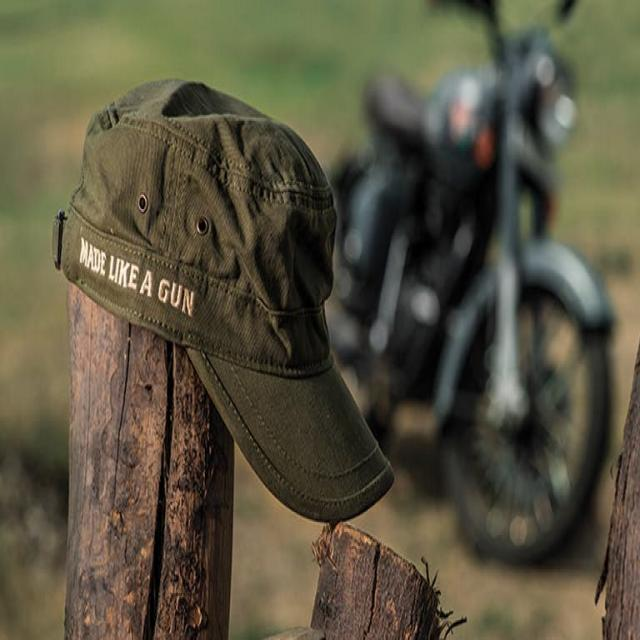Cap: (50, 68, 414, 549)
